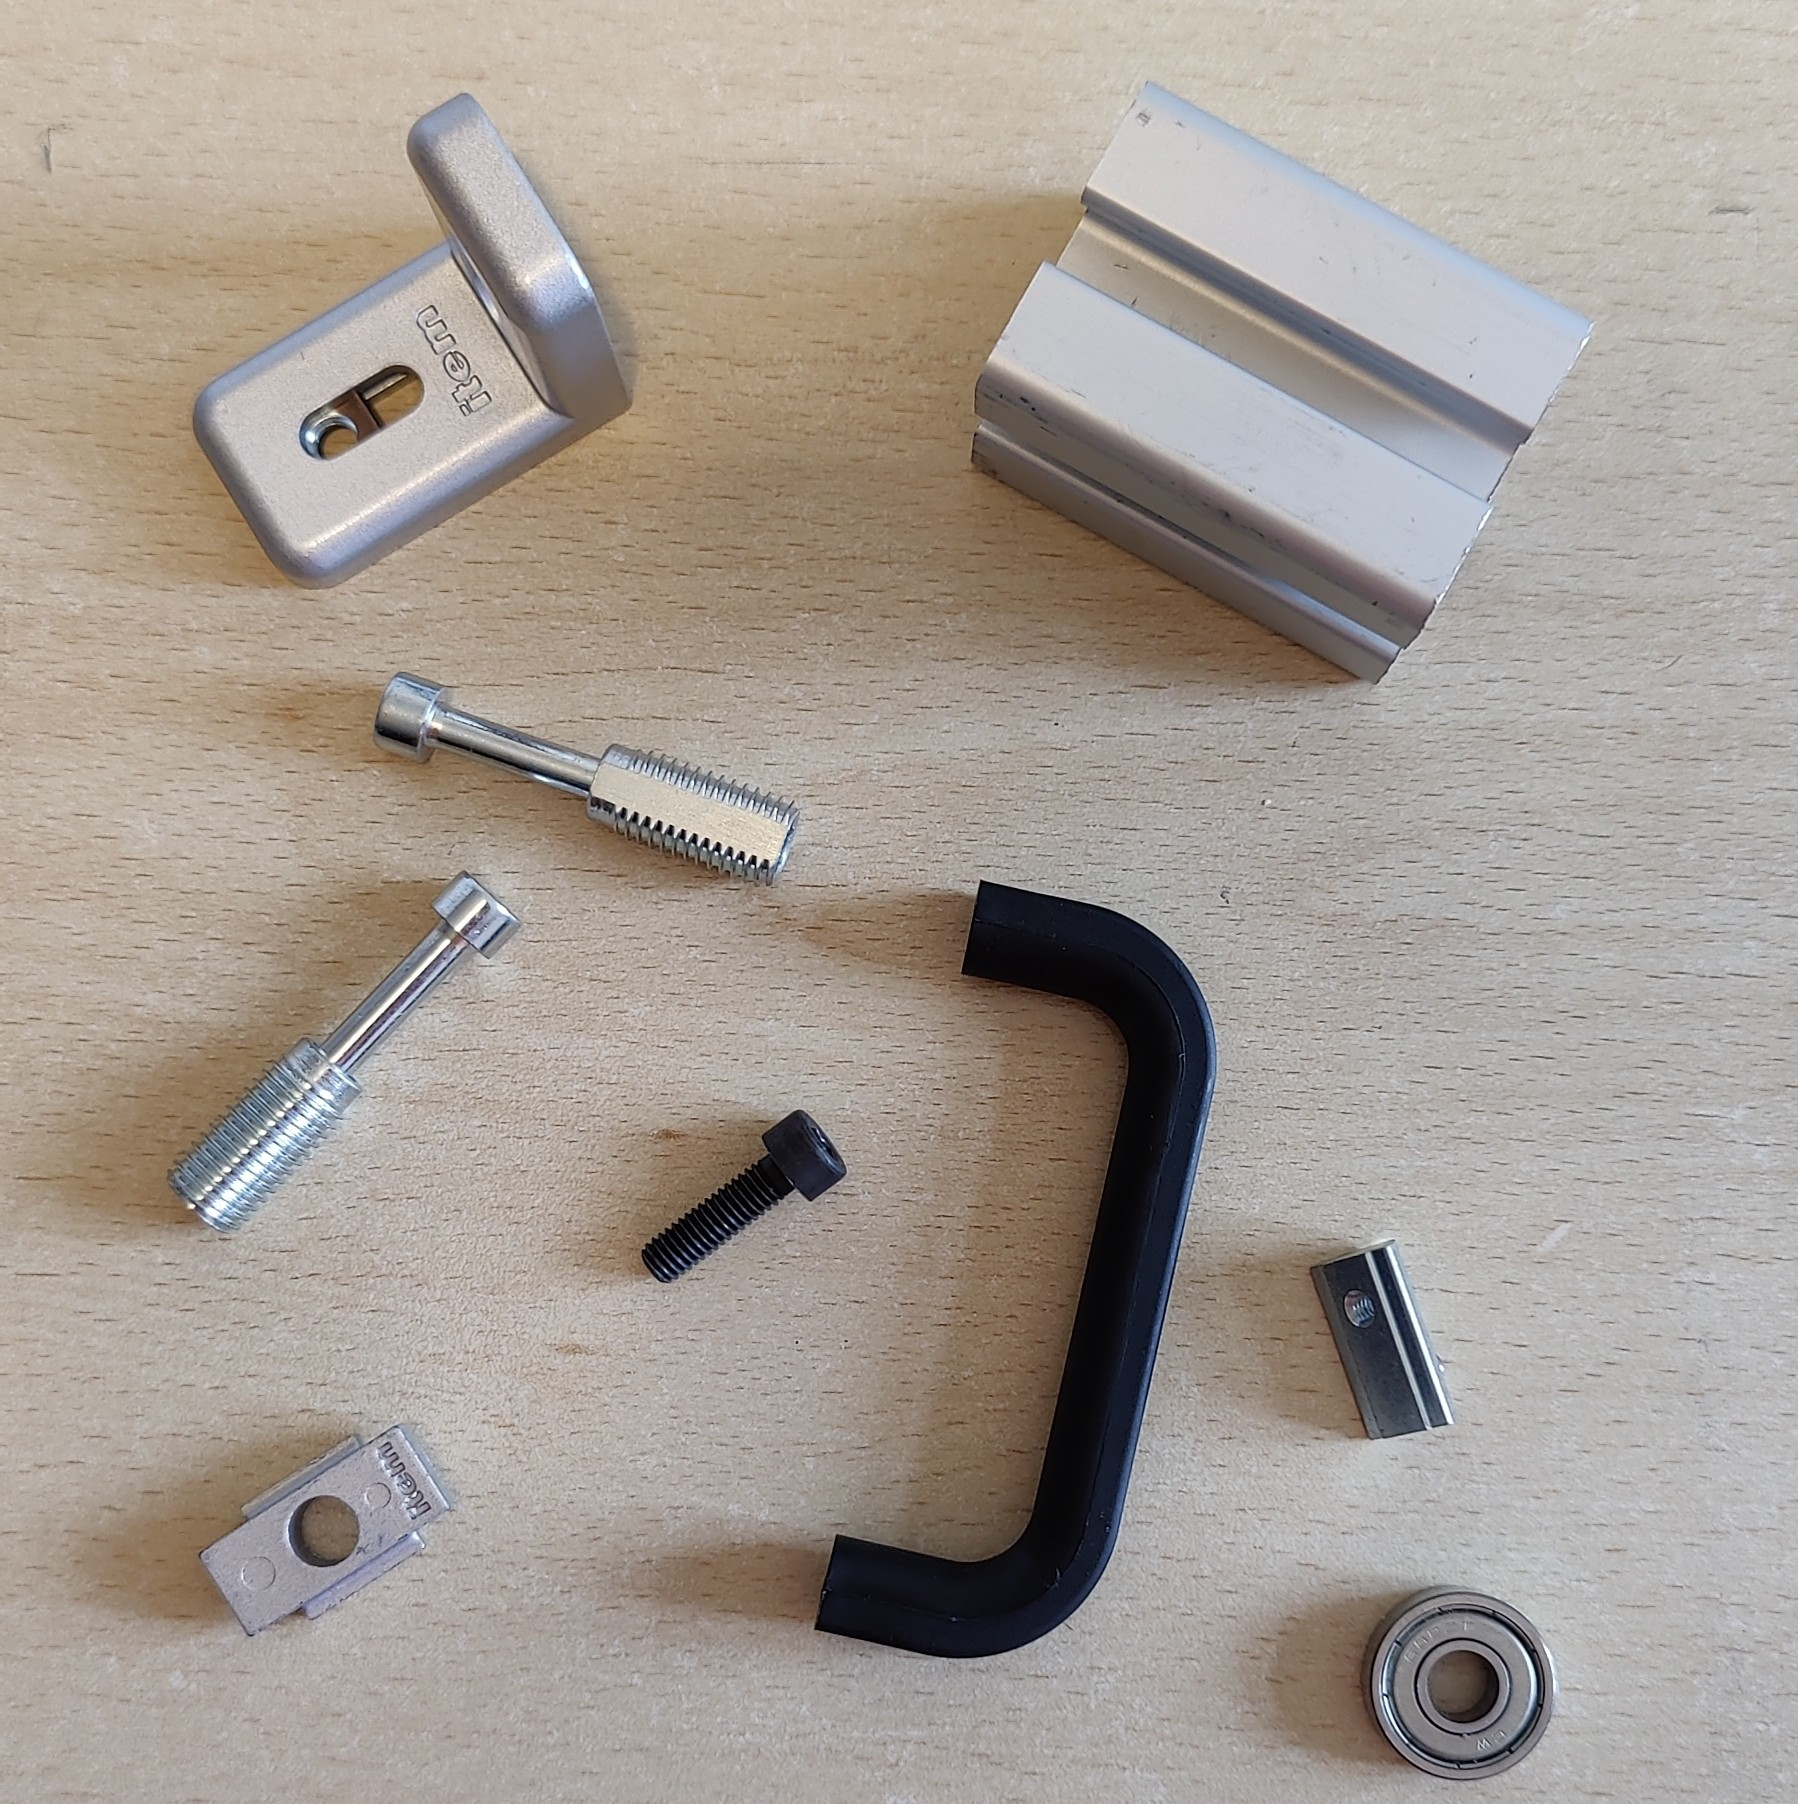Aluminium Extension: (965, 77, 1602, 690)
Ball Bearing: (1355, 1582, 1558, 1784)
Multiwinkel: (188, 87, 636, 593)
Pull Handle: (813, 877, 1222, 1662)
Shoulder Socket Head Cap Screw: (161, 864, 524, 1238), (367, 668, 807, 889)
Socket Head Cap Screw: (639, 1104, 850, 1289)
T Nut Square: (194, 1417, 463, 1641)
T Spring Nut: (1302, 1236, 1459, 1444)
